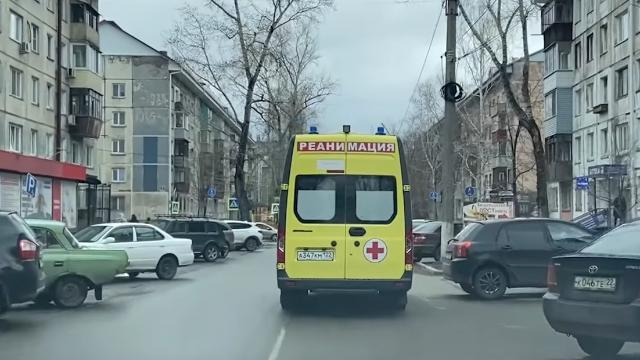intensive care unit: (277, 123, 416, 317)
non emergency car: (445, 218, 601, 301), (547, 217, 639, 356), (16, 222, 128, 310), (77, 222, 194, 281), (2, 210, 42, 326), (151, 219, 227, 264), (230, 220, 264, 254)
